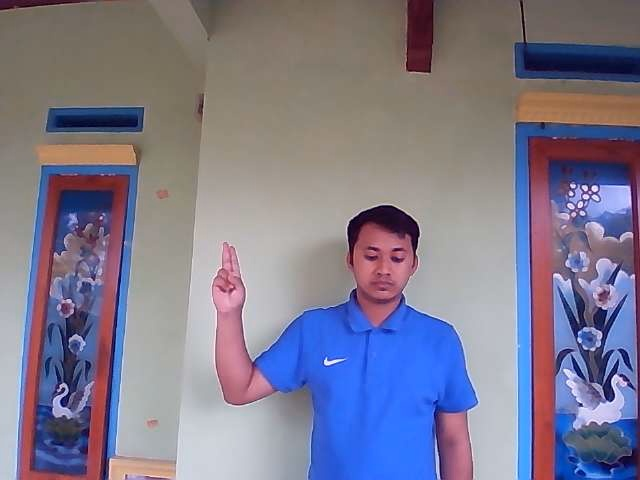U: (210, 242, 246, 315)
